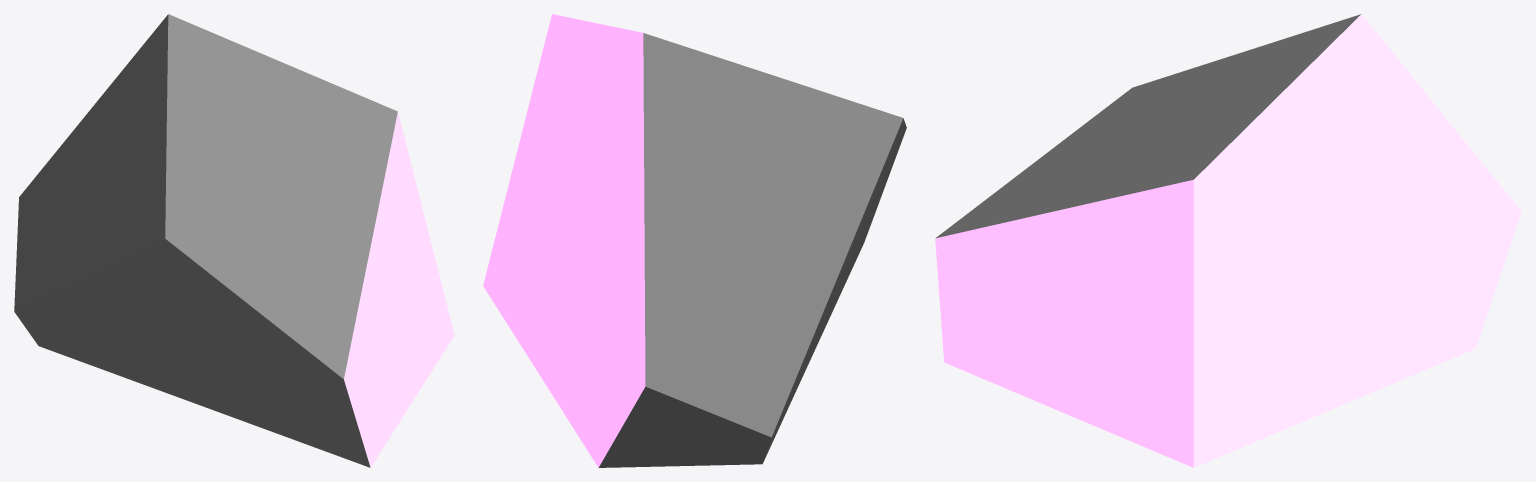
File: Cone_after_002.fbx
3 renders of one model, left to right at view 1: azimuth 30°, elevation 25°; view 2: azimuth 150°, elevation 25°; view 3: azimuth 270°, elevation 25°, orthographic. The views are drawn at different scales.
Visible parts, largest first — view 1: Cone_after_002; view 2: Cone_after_002; view 3: Cone_after_002.
Boxes of the visible parts, box(x1,y1,x2,y2) form: Cone_after_002: box(14, 14, 454, 467); Cone_after_002: box(483, 14, 906, 467); Cone_after_002: box(935, 14, 1521, 467).
Bounding box in the file's own units: 11.85 × 10.55 × 16.35.
